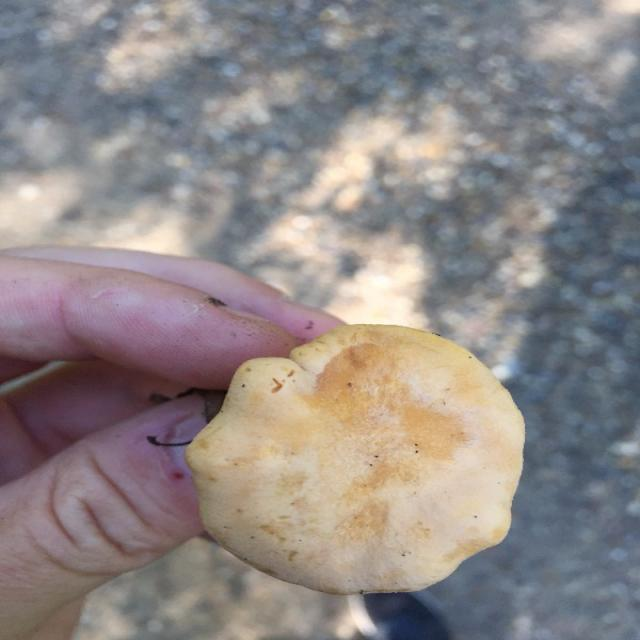Cantharellus cibarius: (191, 326, 524, 594)
